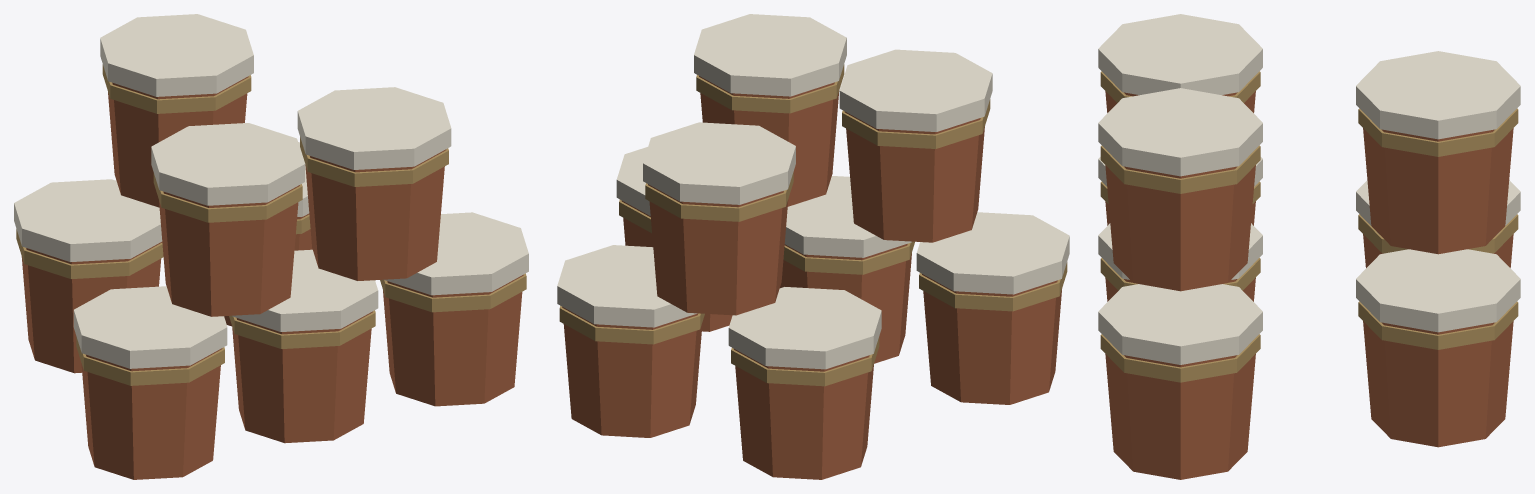
The model's file is pile_honey_3.glb.
3 views of the same model, side by side, from view 1: azimuth 30°, elevation 25°; view 2: azimuth 150°, elevation 25°; view 3: azimuth 270°, elevation 25° (orthographic). The views are drawn at different scales.
Parts seen in each view (by area): view 1: pile_honey_3; view 2: pile_honey_3; view 3: pile_honey_3.
Part boxes in pixels (left/top/right/bottom): pile_honey_3: left=14, top=14, right=528, bottom=479; pile_honey_3: left=557, top=14, right=1069, bottom=479; pile_honey_3: left=1098, top=14, right=1520, bottom=479.
Bounding box in the file's own units: 1.02 × 0.62 × 0.82.
